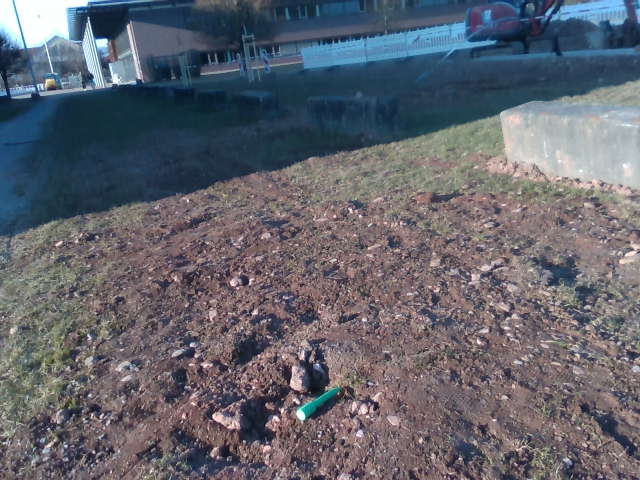Probe: (294, 385, 342, 421)
